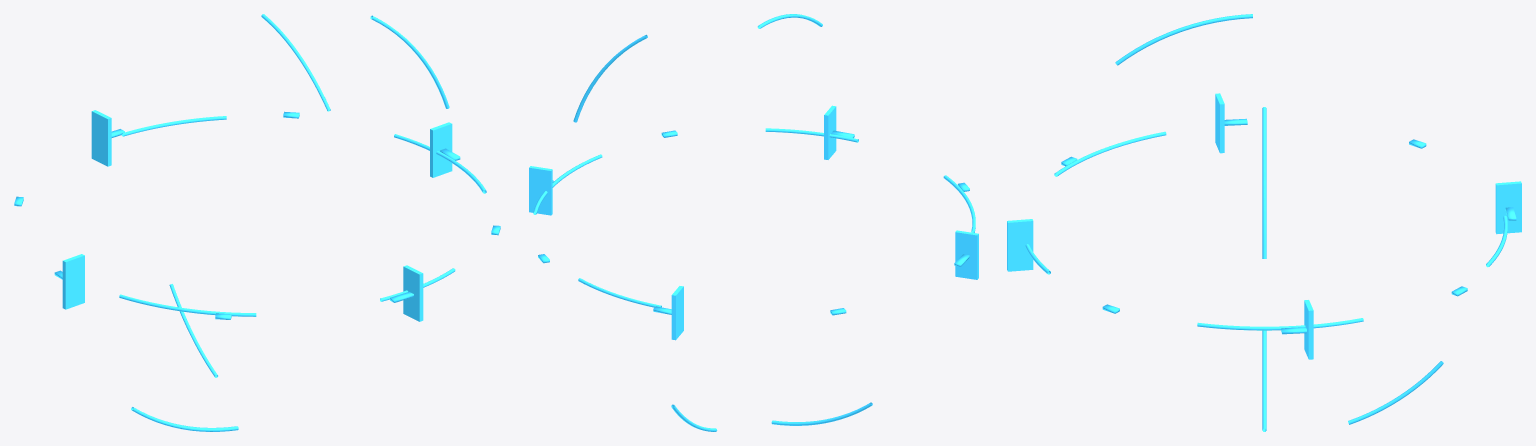
The model's file is jarvis_core_cage.glb.
3 renders of one model, left to right at view 1: azimuth 30°, elevation 25°; view 2: azimuth 150°, elevation 25°; view 3: azimuth 270°, elevation 25°, orthographic. The views are drawn at different scales.
Visible parts, largest first — view 1: JCC_CoreContainmentCage; view 2: JCC_CoreContainmentCage; view 3: JCC_CoreContainmentCage.
Part boxes in pixels (x1,y1,x2,y2): JCC_CoreContainmentCage: (14, 14, 500, 431); JCC_CoreContainmentCage: (529, 14, 978, 431); JCC_CoreContainmentCage: (1007, 14, 1521, 431).
Size of the model in its own units: 22.91 by 21 by 22.91.
